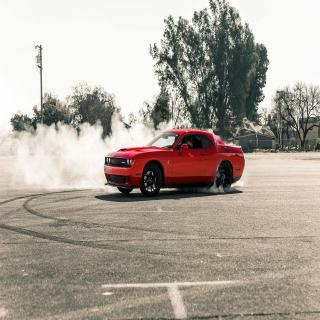Normal_vehicle: (104, 128, 245, 196)
